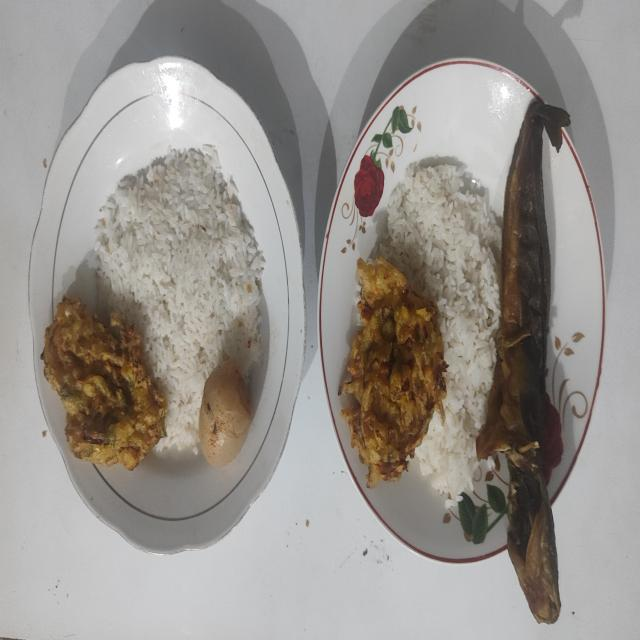nasi_putih: (95, 146, 265, 450), (378, 162, 501, 494)
